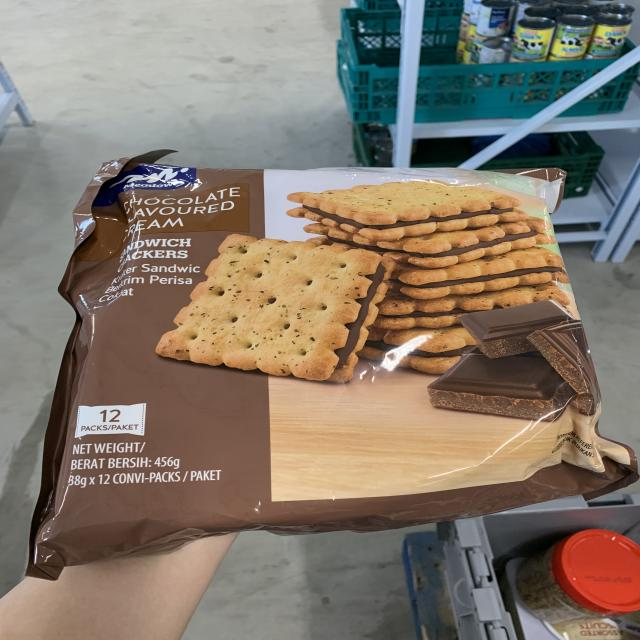object_name: (68, 169, 589, 514)
